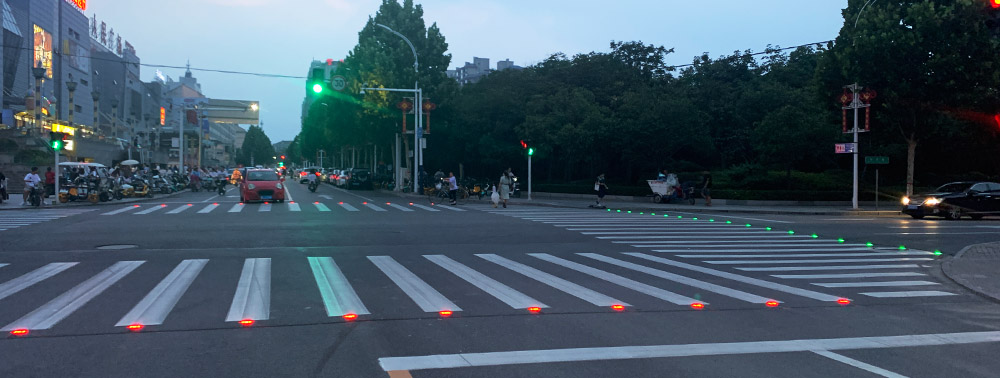trafficlight: (307, 66, 327, 106), (520, 140, 542, 165), (51, 127, 61, 151)
zebracross: (6, 254, 678, 316), (509, 211, 929, 297), (121, 203, 467, 217)
